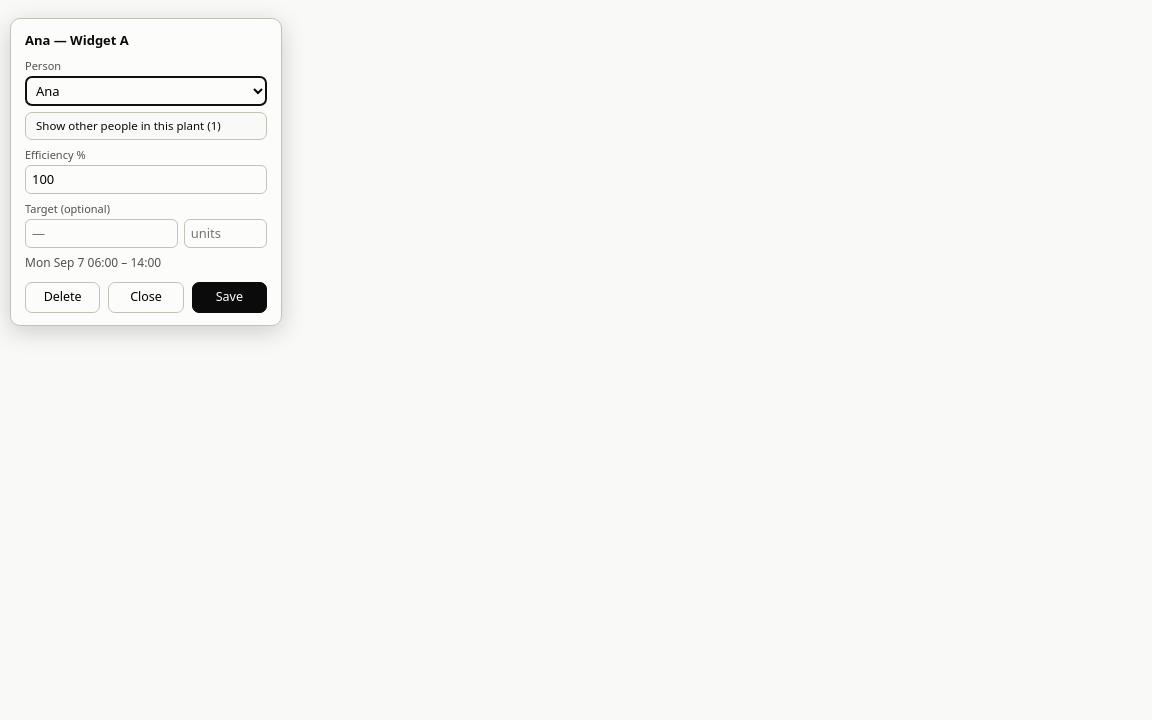
Test case: AP4: a not_eligible answer under warn asks for the override and resends with it › forgets the answer when a different person is picked
Select "Ben" in the dropdown labelled "Person" at (146, 91), box [25,76,267,106]
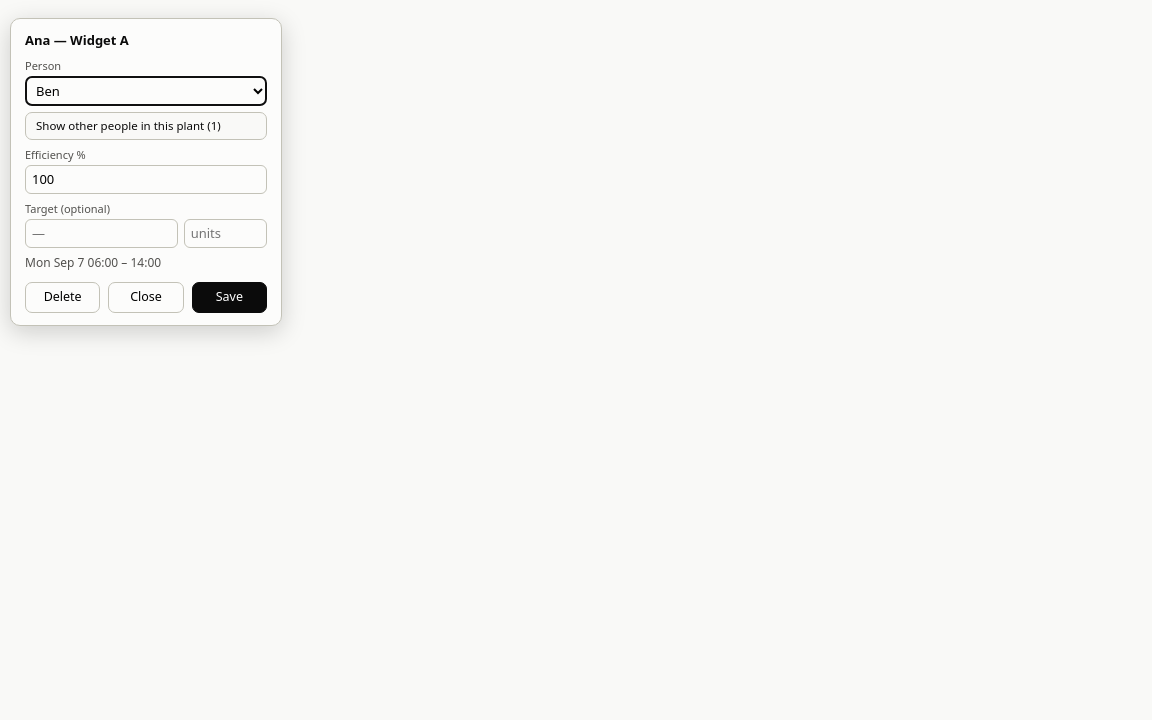
Click the button "Save" at (229, 297), box [192,282,267,312]
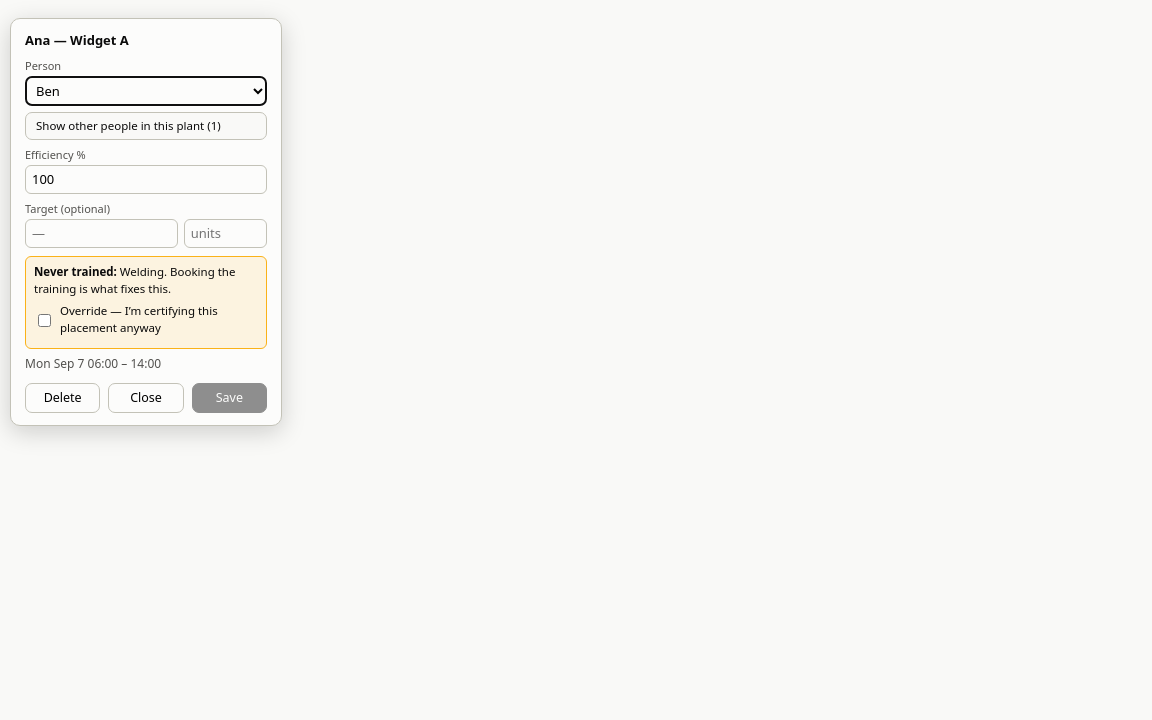
Now the text "Never trained:" is shown, box [34,264,117,279]
An answer about Ben says nothing about Ana or Cara.
Select "op-cara" in the dropdown labelled "Person" at (146, 91), box [25,76,267,106]
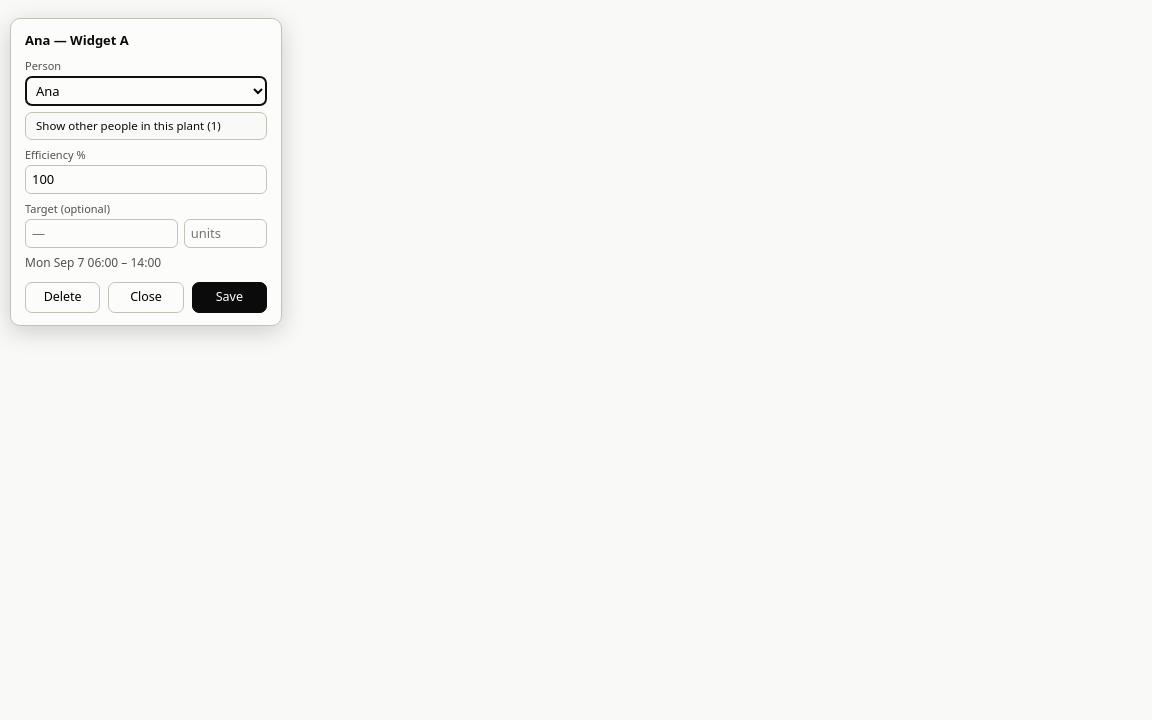
Now the text "Never trained:" is gone
